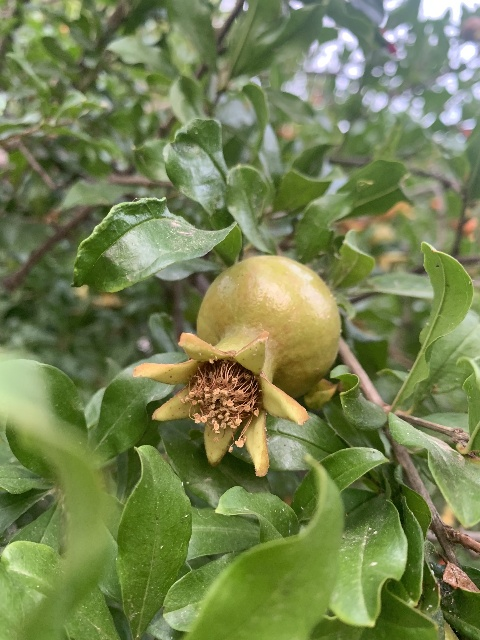mid-growth: (131, 254, 341, 476)
